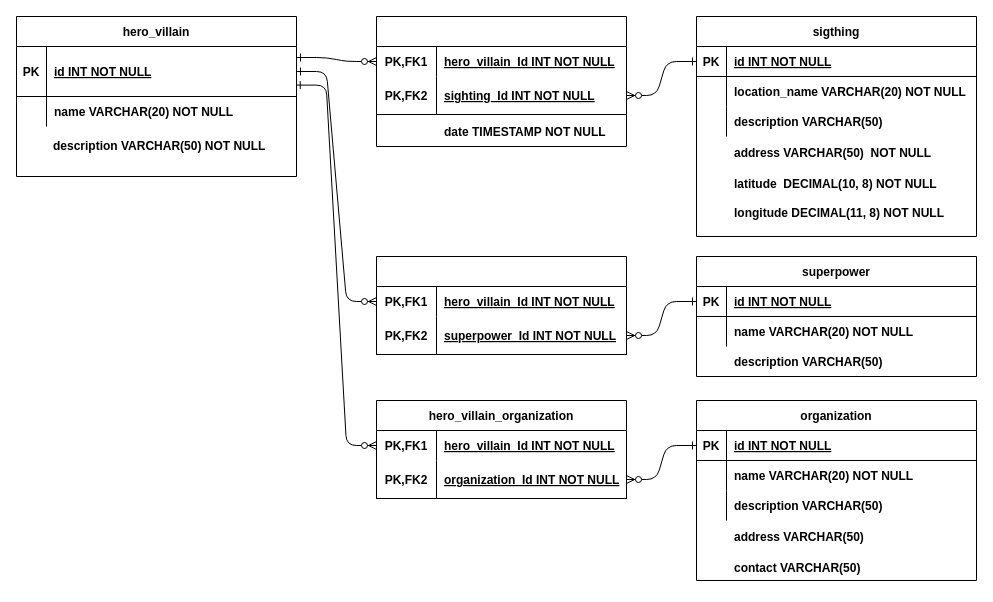
Image size: 993x602. Some labels were removed from this diagram. Each missing label, with the box of its shape:
hero_villain_sighting: (376, 16, 626, 146)
hero_villain_superpower: (376, 256, 626, 354)
